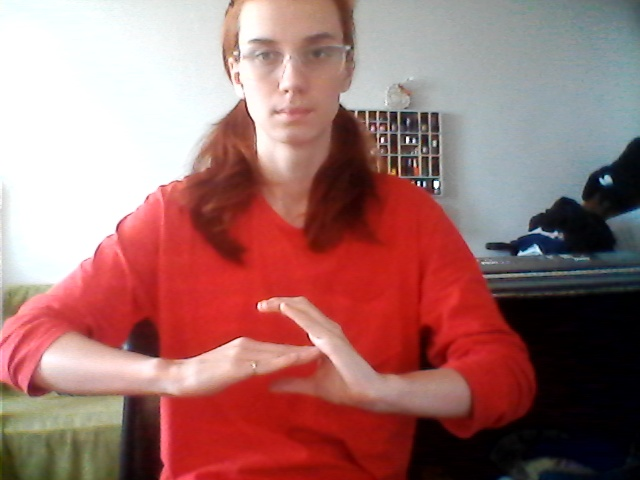e: (186, 290, 384, 429)
